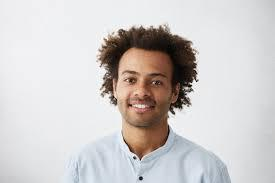person: (95, 18, 192, 131)
